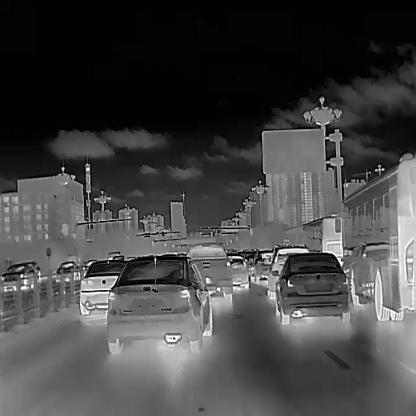car: (341, 155, 416, 320), (106, 255, 213, 355), (275, 251, 351, 325), (79, 260, 127, 315), (183, 243, 232, 296), (266, 243, 309, 299), (302, 216, 343, 258), (0, 262, 37, 292), (225, 253, 249, 289), (253, 249, 273, 283), (55, 260, 80, 282), (20, 260, 41, 283), (243, 251, 257, 281), (82, 259, 97, 276), (107, 251, 120, 261)
